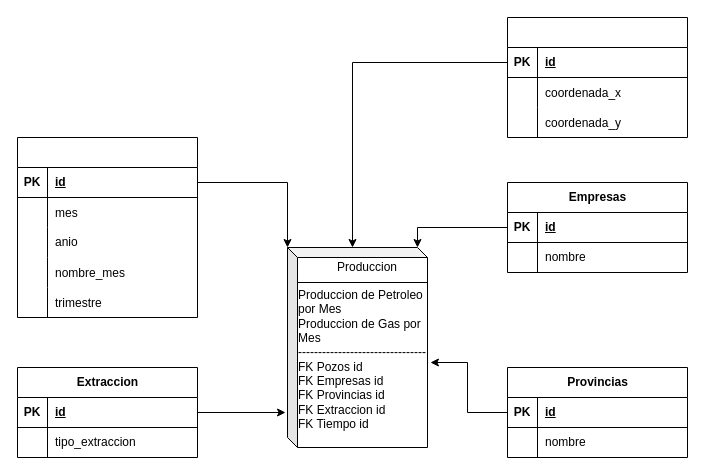
Image size: 705x475. Some labels were removed from this diagram. The box of each missing label's shape, as (x1, y1, x2, y2) in pixels:
Pozos: (506, 16, 688, 138)
Tiempo: (16, 136, 198, 318)
